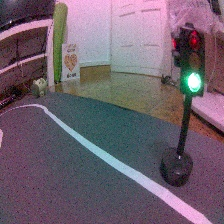green: (156, 22, 208, 190)
